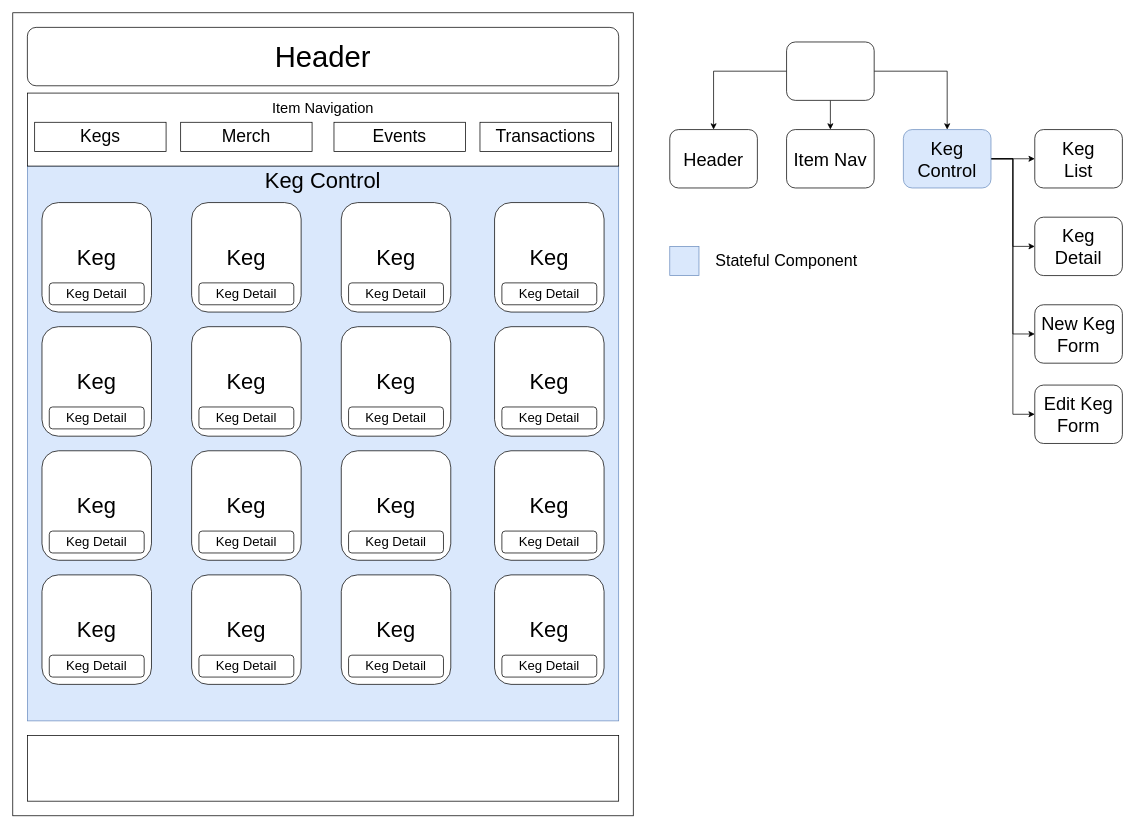
Some shapes in this 1135 by 829 pixel diagram are drawn without their labels. Each missing label, with the centre of its shape:
"App" goes at pixel 830 70.
"Footer" goes at pixel 323 768.
